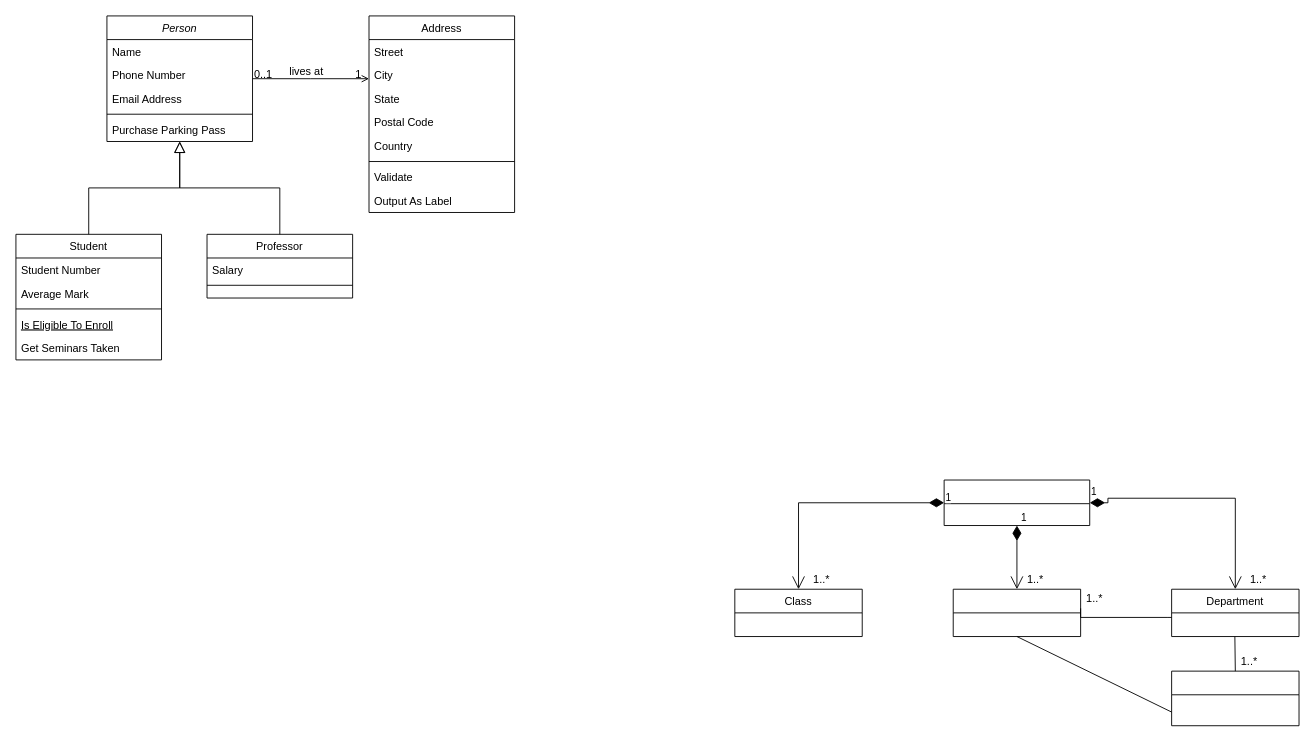
Some shapes in this 1315 by 742 pixel diagram are drawn without their labels. Here are the shapes that lost their labels. From the top down, the centre of each, then its label:
At point (1016, 502): "University".
At point (1016, 612): "Office".
At point (1235, 698): "Employee".
